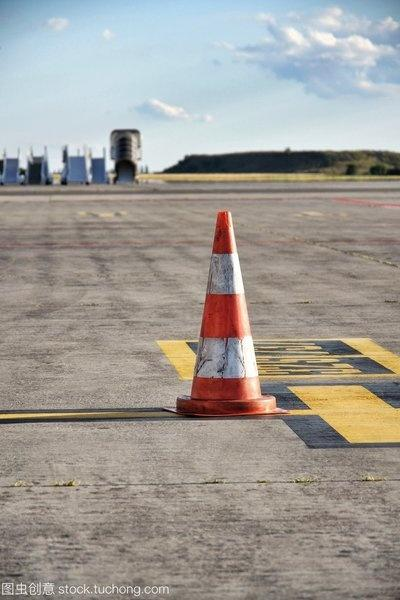cone_barrel: (176, 210, 277, 412)
